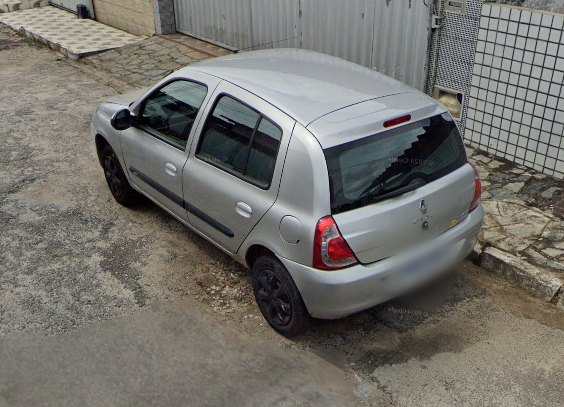car: (88, 35, 487, 343)
